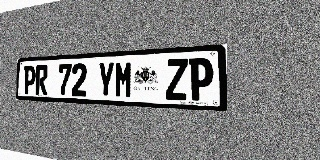2: (71, 63, 87, 97)
7: (57, 64, 72, 96)
M: (114, 61, 133, 98)
P: (189, 57, 213, 101), (23, 65, 36, 95)
R: (35, 65, 48, 95)
Y: (97, 62, 115, 98)
Z: (165, 58, 188, 100)
